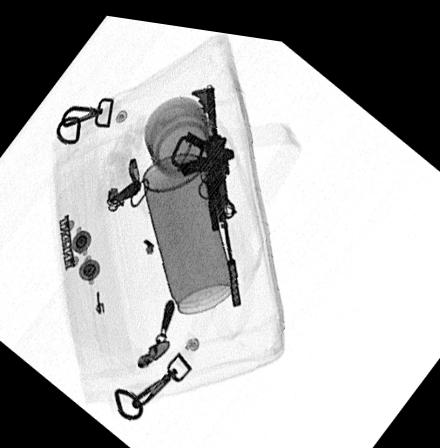Gun: (179, 79, 242, 300)
